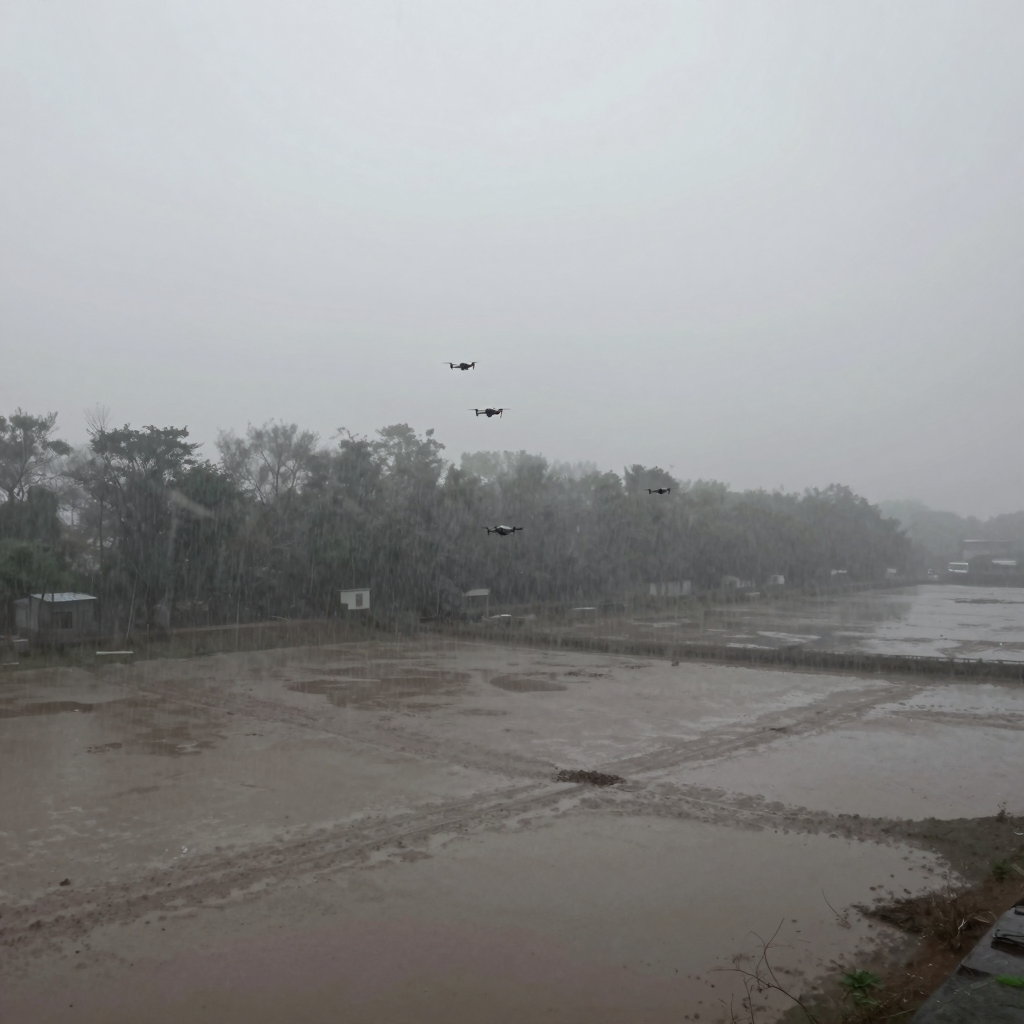drone: (481, 525, 523, 537), (467, 408, 511, 418), (442, 361, 478, 371), (643, 488, 671, 495), (512, 526, 523, 534)
